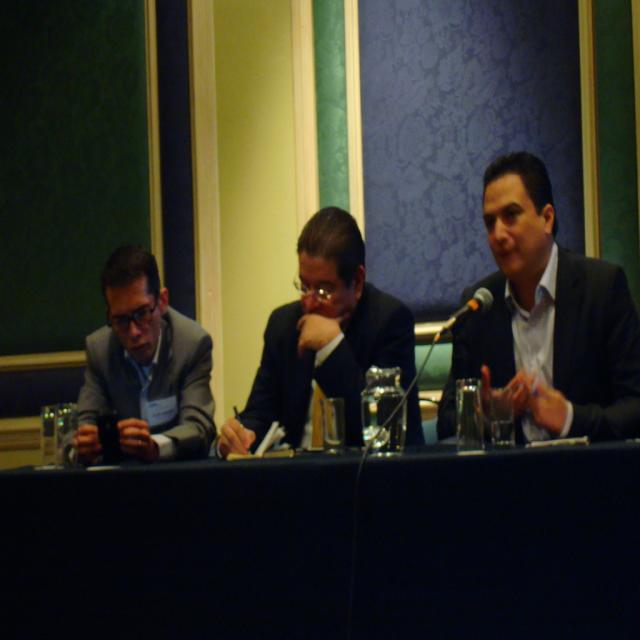desk: (0, 442, 639, 639)
person: (434, 151, 640, 446), (216, 207, 425, 458), (63, 244, 218, 469)
